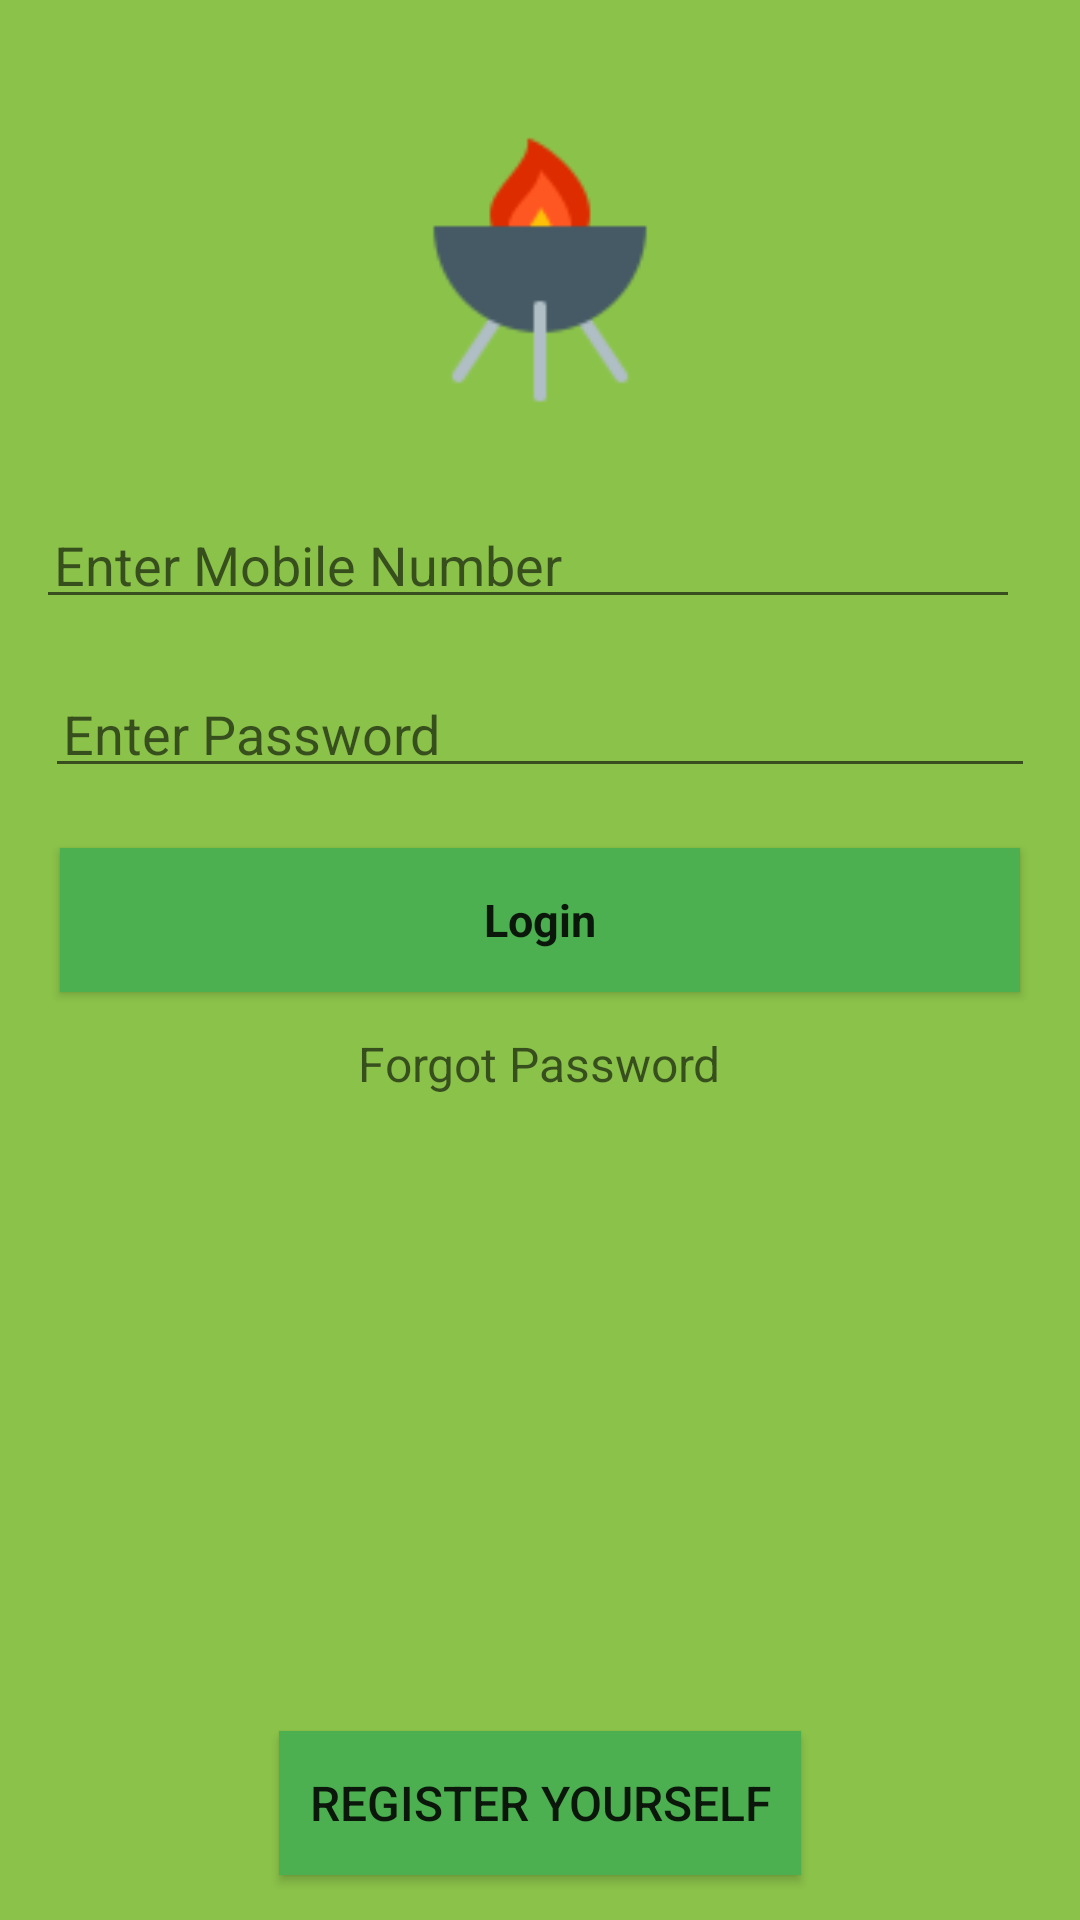

Named icons in this screenshot (1080x1920) and their centers, (x,y):
grill: (540,270)
